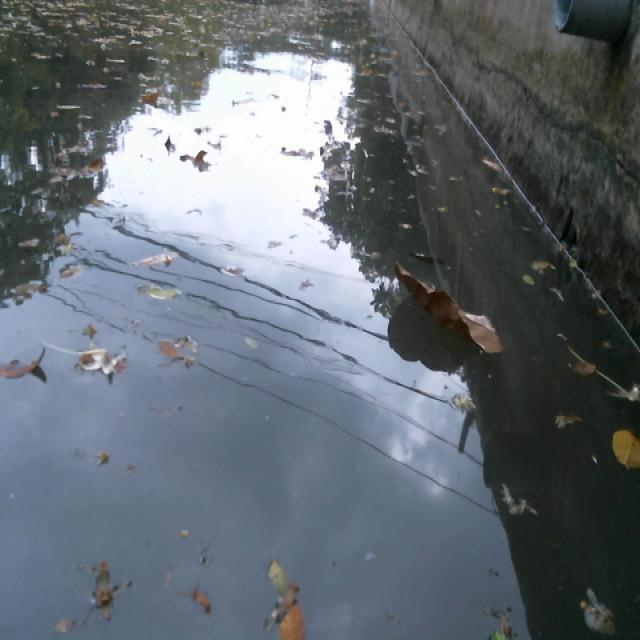Big-leaf: (389, 255, 504, 358)
Small-leaf: (68, 336, 134, 382), (1, 341, 50, 392), (576, 594, 622, 640), (91, 557, 116, 623), (270, 601, 311, 640), (609, 423, 640, 474), (131, 245, 182, 275), (134, 280, 183, 305), (266, 552, 291, 598), (404, 248, 453, 271), (178, 144, 215, 172), (185, 585, 215, 617), (553, 406, 586, 433), (483, 613, 515, 640), (158, 337, 186, 365), (567, 353, 599, 377), (528, 254, 557, 274), (481, 155, 505, 175), (15, 236, 45, 252), (46, 162, 75, 178), (278, 143, 305, 160), (242, 331, 261, 353), (140, 90, 161, 109), (490, 181, 511, 197), (86, 155, 105, 172), (162, 134, 177, 155), (521, 270, 538, 287), (433, 202, 451, 215)
